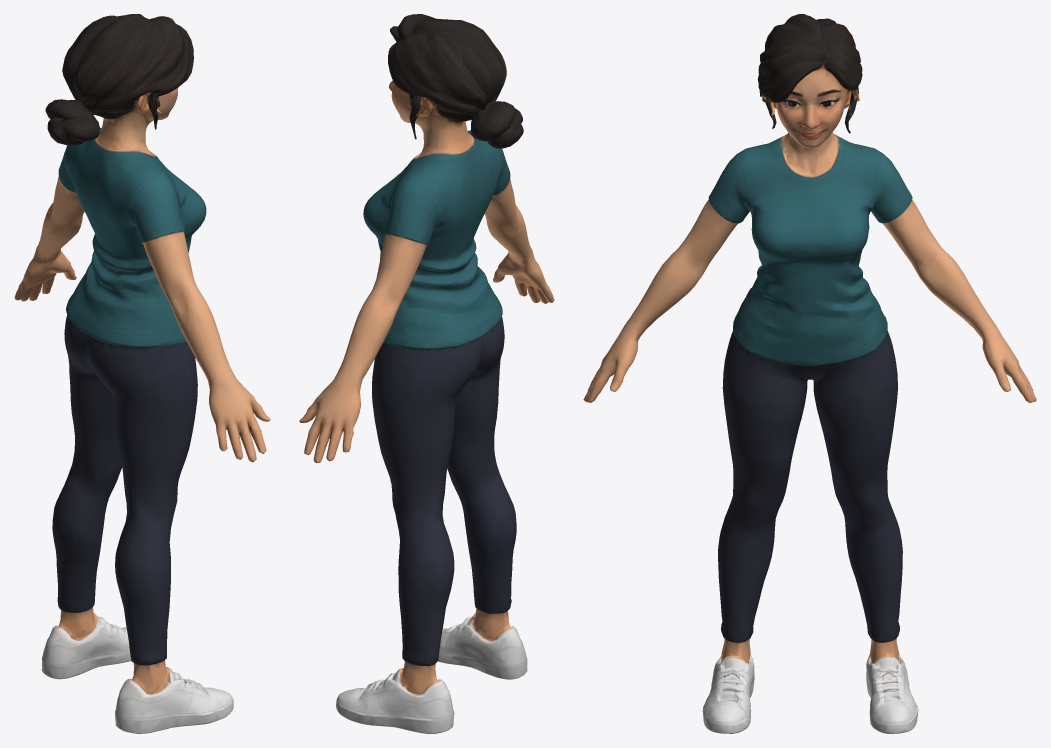
The model's file is coach-f-raw.glb.
3 renders of one model, left to right at view 1: azimuth 30°, elevation 25°; view 2: azimuth 150°, elevation 25°; view 3: azimuth 270°, elevation 25°, orthographic.
Parts seen in each view (by area): view 1: tripo_node_288d19eb-fd74-4dde-b370-42d78f498b1d; view 2: tripo_node_288d19eb-fd74-4dde-b370-42d78f498b1d; view 3: tripo_node_288d19eb-fd74-4dde-b370-42d78f498b1d.
Boxes of the visible parts, x1=… form: tripo_node_288d19eb-fd74-4dde-b370-42d78f498b1d: x1=14, y1=14, x2=270, y2=733; tripo_node_288d19eb-fd74-4dde-b370-42d78f498b1d: x1=299, y1=14, x2=554, y2=733; tripo_node_288d19eb-fd74-4dde-b370-42d78f498b1d: x1=583, y1=14, x2=1036, y2=733.
Size of the model in its own units: 0.381 by 1.75 by 1.05.
Materials: 1 (1 with a texture image).
